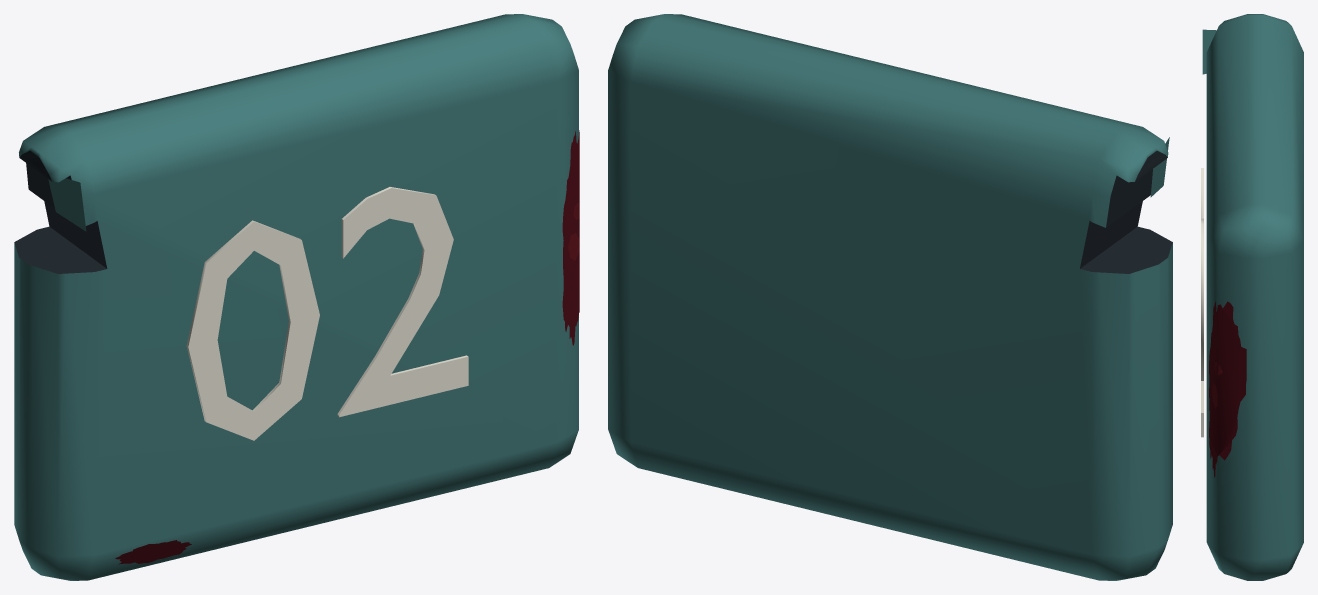
File: recovery_bay_sign_02.glb
3 renders of one model, left to right at view 1: azimuth 30°, elevation 25°; view 2: azimuth 150°, elevation 25°; view 3: azimuth 270°, elevation 25°, orthographic. The views are drawn at different scales.
Visible parts, largest first — view 1: recovery_bay_sign_02_Outbreak_Static; view 2: recovery_bay_sign_02_Outbreak_Static; view 3: recovery_bay_sign_02_Outbreak_Static.
Boxes of the visible parts, x1,y1,x2,y2 form: recovery_bay_sign_02_Outbreak_Static: [14, 14, 579, 580]; recovery_bay_sign_02_Outbreak_Static: [608, 14, 1172, 580]; recovery_bay_sign_02_Outbreak_Static: [1201, 14, 1303, 580].
Size of the model in its own units: 0.37 by 0.29 by 0.072.
